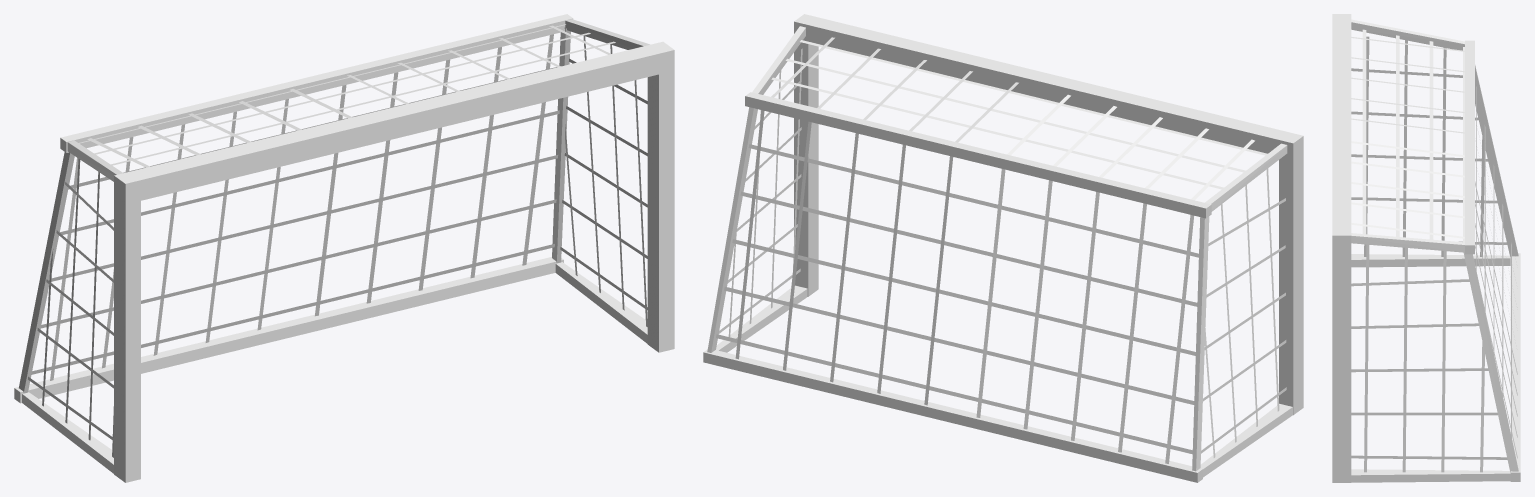
Rendered from Footbal_Gate.fbx.
3 renders of one model, left to right at view 1: azimuth 30°, elevation 25°; view 2: azimuth 150°, elevation 25°; view 3: azimuth 270°, elevation 25°, orthographic. The views are drawn at different scales.
Visible parts, largest first — view 1: Footbal_Gate; view 2: Footbal_Gate; view 3: Footbal_Gate.
Part boxes in pixels (x1,y1,x2,y2): Footbal_Gate: (14, 14, 674, 482); Footbal_Gate: (703, 14, 1303, 482); Footbal_Gate: (1332, 14, 1520, 482).
Bounding box in the file's own units: 191 × 99.6 × 68.76.
